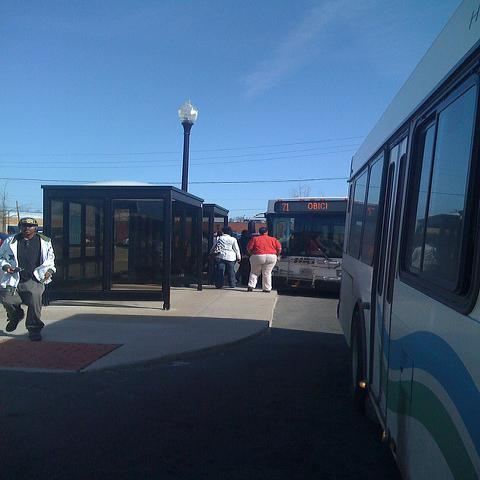bus: (338, 2, 477, 475), (265, 198, 347, 299)
